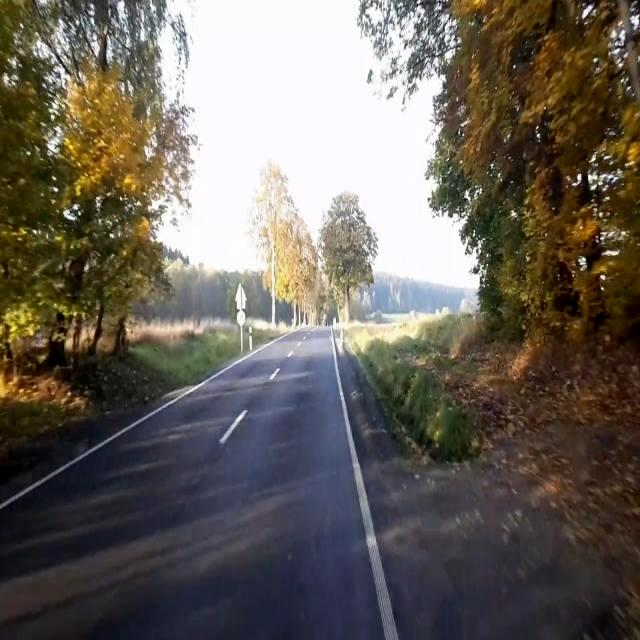lane: (2, 332, 291, 510), (333, 340, 399, 638), (220, 410, 246, 444)
road: (1, 328, 383, 639)
